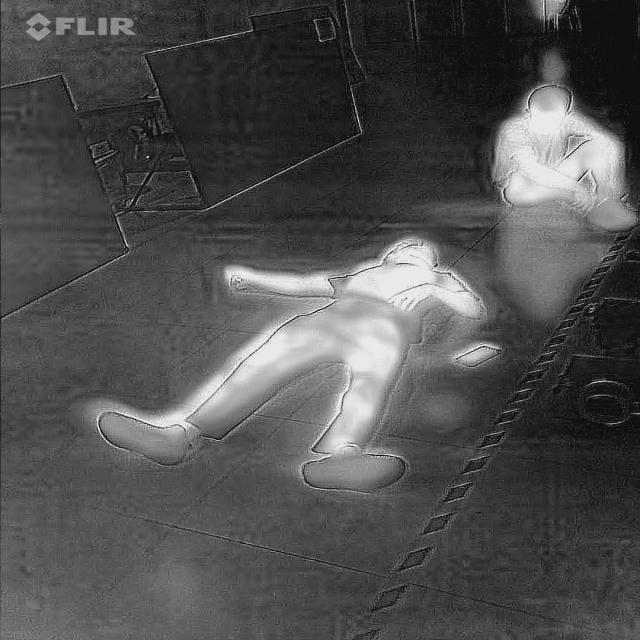Victim: (62, 233, 495, 496), (495, 77, 639, 235)
